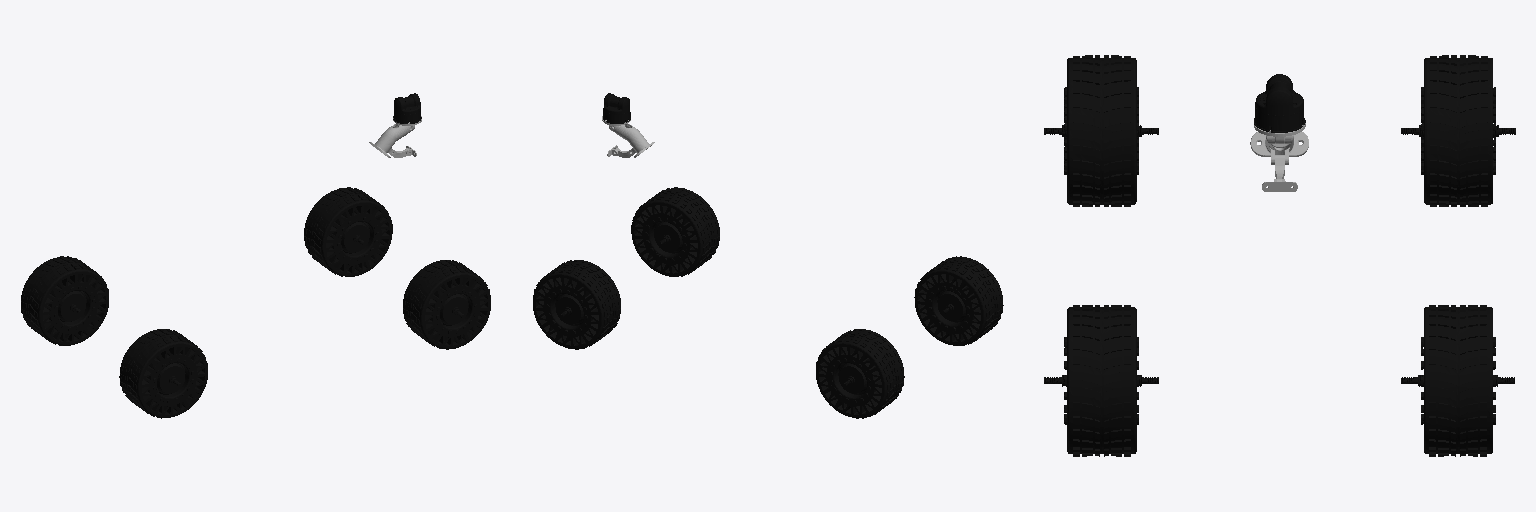
The robot description file, URDF, robot "Jaska V2":
<?xml version="1.0" encoding="utf-8"?>
<!-- This URDF was automatically created by SolidWorks to URDF Exporter! Originally created by Stephen Brawner (brawner@gmail.com) 
     Commit Version: 1.6.0-4-g7f85cfe  Build Version: 1.6.7995.38578
     For more information, please see http://wiki.ros.org/sw_urdf_exporter -->
<robot
  name="Jaska V2">
  <!-- base_footprint: ground-level reference frame (ROS2 convention).
       Placed at z=0 on the ground directly below base_link.
       Used by slam_toolbox/Nav2 so the map frame aligns with ground level.
       Offset = 0.322m = base_link spawn height above ground in the Metropolia scene. -->
  <link name="base_footprint"/>
  <joint name="base_footprint_joint" type="fixed">
    <parent link="base_footprint"/>
    <child link="base_link"/>
    <origin xyz="0 0 0.322" rpy="0 0 0"/>
  </joint>
  <link
    name="base_link">
    <inertial>
      <origin
        xyz="0.0167116582638194 0.000183919932521565 0.0480446417508829"
        rpy="0 0 0" />
      <mass
        value="45.448453178347" />
      <inertia
        ixx="0.433608840736545"
        ixy="2.55088180800693E-05"
        ixz="-0.012677215440949"
        iyy="0.915998537549348"
        iyz="-0.000366335315375223"
        izz="1.17796558685036" />
    </inertial>
    <visual>
      <origin
        xyz="0 0 0"
        rpy="0 0 0" />
      <geometry>
        <mesh
          filename="package://jaska_description/meshes/jaska_v2/base_link.STL" />
      </geometry>
      <material
        name="jaska_blue">
        <color
          rgba="0.2 0.4 0.8 1.0" />
      </material>
    </visual>
    <collision>
      <origin
        xyz="0 0 0"
        rpy="0 0 0" />
      <geometry>
        <mesh
          filename="package://jaska_description/meshes/jaska_v2/base_link.STL" />
      </geometry>
    </collision>
  </link>
  <link
    name="front_left_wheel">
    <inertial>
      <origin
        xyz="4.21428003605229E-10 -9.69843538811688E-10 -0.0447892364446169"
        rpy="0 0 0" />
      <mass
        value="4.35753639315825" />
      <inertia
        ixx="0.012892993411603"
        ixy="0.00108469725747092"
        ixz="3.65849727161882E-10"
        iyy="0.00639521219913667"
        iyz="1.5768036026998E-10"
        izz="0.0130591851043797" />
    </inertial>
    <visual>
      <origin
        xyz="0 0 0"
        rpy="0 0 0" />
      <geometry>
        <mesh
          filename="package://jaska_description/meshes/jaska_v2/front_left_wheel.STL" />
      </geometry>
      <material
        name="wheel_black">
        <color
          rgba="0.1 0.1 0.1 1.0" />
      </material>
    </visual>
    <collision>
      <origin
        xyz="0 0 0"
        rpy="0 0 0" />
      <geometry>
        <mesh
          filename="package://jaska_description/meshes/jaska_v2/front_left_wheel.STL" />
      </geometry>
    </collision>
  </link>
  <joint
    name="front_left_wheel_joint"
    type="continuous">
    <origin
      xyz="0.42321 0.30165 -0.20139"
      rpy="-1.5708 0 0" />
    <parent
      link="base_link" />
    <child
      link="front_left_wheel" />
    <axis
      xyz="0 0 -1" />
    <dynamics
      damping="0.1"
      friction="0.1" />
  </joint>
  <link
    name="front_right_wheel">
    <inertial>
      <origin
        xyz="4.21428891783648E-10 -9.69843483300536E-10 0.0448107635554156"
        rpy="0 0 0" />
      <mass
        value="4.35753639315827" />
      <inertia
        ixx="0.012892993411603"
        ixy="0.00108469725747092"
        ixz="3.65849727619343E-10"
        iyy="0.00639521219913669"
        iyz="1.5768038233689E-10"
        izz="0.0130591851043797" />
    </inertial>
    <visual>
      <origin
        xyz="0 0 0"
        rpy="0 0 0" />
      <geometry>
        <mesh
          filename="package://jaska_description/meshes/jaska_v2/front_right_wheel.STL" />
      </geometry>
      <material
        name="wheel_black">
        <color
          rgba="0.1 0.1 0.1 1.0" />
      </material>
    </visual>
    <collision>
      <origin
        xyz="0 0 0"
        rpy="0 0 0" />
      <geometry>
        <mesh
          filename="package://jaska_description/meshes/jaska_v2/front_right_wheel.STL" />
      </geometry>
    </collision>
  </link>
  <joint
    name="front_right_wheel_joint"
    type="continuous">
    <origin
      xyz="0.42321 -0.30141 -0.20139"
      rpy="-1.5708 0 0" />
    <parent
      link="base_link" />
    <child
      link="front_right_wheel" />
    <axis
      xyz="0 0 -1" />
    <dynamics
      damping="0.1"
      friction="0.1" />
  </joint>
  <link
    name="rear_left_wheel">
    <inertial>
      <origin
        xyz="3.18582230041109E-10 -1.00838526417846E-09 -0.044789236445087"
        rpy="0 0 0" />
      <mass
        value="4.35753639306677" />
      <inertia
        ixx="0.0130468949017929"
        ixy="0.000390978594948195"
        ixz="3.80232288378888E-10"
        iyy="0.00624131070987692"
        iyz="1.18880320553517E-10"
        izz="0.013059185103982" />
    </inertial>
    <visual>
      <origin
        xyz="0 0 0"
        rpy="0 0 0" />
      <geometry>
        <mesh
          filename="package://jaska_description/meshes/jaska_v2/rear_left_wheel.STL" />
      </geometry>
      <material
        name="wheel_black">
        <color
          rgba="0.1 0.1 0.1 1.0" />
      </material>
    </visual>
    <collision>
      <origin
        xyz="0 0 0"
        rpy="0 0 0" />
      <geometry>
        <mesh
          filename="package://jaska_description/meshes/jaska_v2/rear_left_wheel.STL" />
      </geometry>
    </collision>
  </link>
  <joint
    name="rear_left_wheel_joint"
    type="continuous">
    <origin
      xyz="-0.42685 0.30241 -0.20104"
      rpy="-1.5708 0 0" />
    <parent
      link="base_link" />
    <child
      link="rear_left_wheel" />
    <axis
      xyz="0 0 -1" />
    <dynamics
      damping="0.1"
      friction="0.1" />
  </joint>
  <link
    name="rear_right_wheel">
    <inertial>
      <origin
        xyz="-3.18589488124132E-10 1.00836058947174E-09 0.0448107635549138"
        rpy="0 0 0" />
      <mass
        value="4.35753639306677" />
      <inertia
        ixx="0.013046894901793"
        ixy="0.00039097859494819"
        ixz="-3.80232286280492E-10"
        iyy="0.00624131070987693"
        iyz="-1.18880322790878E-10"
        izz="0.013059185103982" />
    </inertial>
    <visual>
      <origin
        xyz="0 0 0"
        rpy="0 0 0" />
      <geometry>
        <mesh
          filename="package://jaska_description/meshes/jaska_v2/rear_right_wheel.STL" />
      </geometry>
      <material
        name="wheel_black">
        <color
          rgba="0.1 0.1 0.1 1.0" />
      </material>
    </visual>
    <collision>
      <origin
        xyz="0 0 0"
        rpy="0 0 0" />
      <geometry>
        <mesh
          filename="package://jaska_description/meshes/jaska_v2/rear_right_wheel.STL" />
      </geometry>
    </collision>
  </link>
  <joint
    name="rear_right_wheel_joint"
    type="continuous">
    <origin
      xyz="-0.42685 -0.30141 -0.20104"
      rpy="-1.5708 0 0" />
    <parent
      link="base_link" />
    <child
      link="rear_right_wheel" />
    <axis
      xyz="0 0 -1" />
    <dynamics
      damping="0.1"
      friction="0.1" />
  </joint>

  <!-- Sensor: lidar_and_camera_mount_link -->
  <link name="lidar_and_camera_mount_link">
    <visual>
      <origin xyz="0 0 0" rpy="0 0 0"/>
      <geometry>
        <mesh filename="package://jaska_description/meshes/jaska_v2/sensors/lidar_and_camera_mount.stl" scale="0.001 0.001 0.001"/>
      </geometry>
      <material name="mount_aluminum">
        <color rgba="0.7 0.7 0.7 1.0"/>
      </material>
    </visual>
    <collision>
      <origin xyz="0 0 0" rpy="0 0 0"/>
      <geometry>
        <mesh filename="package://jaska_description/meshes/jaska_v2/sensors/lidar_and_camera_mount.stl" scale="0.001 0.001 0.001"/>
      </geometry>
    </collision>
    <inertial>
      <mass value="0.5000"/>
      <origin xyz="0 0 0" rpy="0 0 0"/>
      <inertia ixx="8.333333e-06" ixy="0" ixz="0"
               iyy="8.333333e-06" iyz="0"
               izz="8.333333e-06"/>
    </inertial>
  </link>

  <joint name="lidar_and_camera_mount_joint" type="fixed">
    <parent link="base_link"/>
    <child link="lidar_and_camera_mount_link"/>
    <origin xyz="0.350000 -0.043000 0.160000" rpy="0.000000 0.785400 0.000000"/>
  </joint>

  <!-- Sensor: unitree_lidar_link -->
  <link name="unitree_lidar_link">
    <visual>
      <origin xyz="0 0 0" rpy="0 0 0"/>
      <geometry>
        <mesh filename="package://jaska_description/meshes/jaska_v2/sensors/unitree_l2.stl" scale="0.001 0.001 0.001"/>
      </geometry>
      <material name="lidar_sensor">
        <color rgba="0.1 0.1 0.1 1.0"/>
      </material>
    </visual>
    <collision>
      <origin xyz="0 0 0" rpy="0 0 0"/>
      <geometry>
        <mesh filename="package://jaska_description/meshes/jaska_v2/sensors/unitree_l2.stl" scale="0.001 0.001 0.001"/>
      </geometry>
    </collision>
    <inertial>
      <mass value="0.1800"/>
      <origin xyz="0 0 0" rpy="0 0 0"/>
      <inertia ixx="3.000000e-06" ixy="0" ixz="0"
               iyy="3.000000e-06" iyz="0"
               izz="3.000000e-06"/>
    </inertial>
  </link>

  <joint name="unitree_lidar_joint" type="fixed">
    <parent link="lidar_and_camera_mount_link"/>
    <child link="unitree_lidar_link"/>
    <origin rpy="0 -0.7853975 0" xyz="0.001 0.005 0.09"/>
  </joint>

  <!-- Unitree L2 Lidar Optical Frame (matches real hardware frame name) -->
  <link name="unilidar_lidar"/>
  <joint name="unitree_lidar_optical_joint" type="fixed">
    <parent link="unitree_lidar_link"/>
    <child link="unilidar_lidar"/>
    <origin rpy="0 0 0" xyz="0 0 0.030"/>
  </joint>

  <!-- Gazebo 3D Lidar Sensor Plugin for Unitree L2 -->
  <gazebo reference="unitree_lidar_link">
    <material>Gazebo/Black</material>
    <sensor name="unitree_l2_lidar" type="gpu_lidar">
      <pose>0 0 0.030 0 0 0</pose>
      <always_on>true</always_on>
      <visualize>true</visualize>
      <update_rate>10</update_rate>
      <topic>unilidar/cloud</topic>
      <gz_frame_id>unilidar_lidar</gz_frame_id>
      <lidar>
        <scan>
          <horizontal>
            <samples>1800</samples>
            <min_angle>-3.14159</min_angle>
            <max_angle>3.14159</max_angle>
            <resolution>1.0</resolution>
          </horizontal>
          <vertical>
            <samples>32</samples>
            <min_angle>-0.1047</min_angle>
            <!-- -6 degrees (downward) -->
            <max_angle>1.5708</max_angle>
            <!-- +90 degrees (upward dome) -->
            <resolution>1.0</resolution>
          </vertical>
        </scan>
        <range>
          <min>0.1</min>
          <max>30.0</max>
          <!-- Unitree L2 max range -->
          <resolution>0.01</resolution>
        </range>
        <noise>
          <type>gaussian</type>
          <mean>0.0</mean>
          <stddev>0.01</stddev>
        </noise>
      </lidar>
    </sensor>
  </gazebo>

  <!-- ZED-X stereo camera — mesh + inertial moved here from removed zed_camera_center -->
  <link name="zed_camera_link">
    <visual>
      <origin xyz="0 0 0" rpy="0 0 0"/>
      <geometry>
        <mesh filename="package://jaska_description/meshes/jaska_v2/sensors/zedx.stl" scale="1.0 1.0 1.0"/>
      </geometry>
      <material name="zedx_mat">
        <color rgba="0.1 0.1 0.1 1.0"/>
      </material>
    </visual>
    <collision>
      <origin xyz="0 0 0" rpy="0 0 0"/>
      <geometry>
        <mesh filename="package://jaska_description/meshes/jaska_v2/sensors/zedx.stl" scale="1.0 1.0 1.0"/>
      </geometry>
    </collision>
    <inertial>
      <mass value="0.1500"/>
      <origin xyz="0 0 0" rpy="0 0 0"/>
      <inertia ixx="2.500000e-06" ixy="0" ixz="0"
               iyy="2.500000e-06" iyz="0"
               izz="2.500000e-06"/>
    </inertial>
  </link>

  <joint name="zed_camera_joint" type="fixed">
    <parent link="lidar_and_camera_mount_link"/>
    <child link="zed_camera_link"/>
    <origin xyz="0.130000 0.042000 0.060000" rpy="0.000000 -0.785400 0.000000"/>
  </joint>

  <!-- Left Camera -->
  <link name="zed_left_camera_frame"/>
  <joint name="zed_left_camera_joint" type="fixed">
    <parent link="zed_camera_link"/>
    <child link="zed_left_camera_frame"/>
    <origin rpy="0 0 0" xyz="-0.01 0.06 0"/>
  </joint>

  <link name="zed_left_camera_optical_frame"/>
  <joint name="zed_left_camera_optical_joint" type="fixed">
    <origin rpy="-1.570795 0.0 -1.570795" xyz="0 0 0"/>
    <parent link="zed_left_camera_frame"/>
    <child link="zed_left_camera_optical_frame"/>
  </joint>

  <!-- Right Camera -->
  <link name="zed_right_camera_frame"/>
  <joint name="zed_right_camera_joint" type="fixed">
    <parent link="zed_camera_link"/>
    <child link="zed_right_camera_frame"/>
    <origin rpy="0 0 0" xyz="-0.01 -0.06 0"/>
  </joint>

  <link name="zed_right_camera_optical_frame"/>
  <joint name="zed_right_camera_optical_joint" type="fixed">
    <origin rpy="-1.570795 0.0 -1.570795" xyz="0 0 0"/>
    <parent link="zed_right_camera_frame"/>
    <child link="zed_right_camera_optical_frame"/>
  </joint>

</robot>

--- Facts derived from the render (not from the file) ---
Views: 3 orthographic renders of the robot side by side, from view 1: azimuth 30°, elevation 25°; view 2: azimuth 150°, elevation 25°; view 3: azimuth 270°, elevation 25°.
Model Jaska V2 with 14 links and 13 joints (4 continuous, 9 fixed), rooted at base_footprint, posed all joints at 0.
Links seen in each view (by area): view 1: front_left_wheel, rear_left_wheel, front_right_wheel, rear_right_wheel, lidar_and_camera_mount_link, unitree_lidar_link; view 2: front_left_wheel, front_right_wheel, rear_left_wheel, rear_right_wheel, lidar_and_camera_mount_link, unitree_lidar_link; view 3: rear_right_wheel, rear_left_wheel, front_right_wheel, front_left_wheel, unitree_lidar_link, lidar_and_camera_mount_link.
Boxes of the visible links, x1,y1,x2,y2 form: front_left_wheel: [304, 187, 392, 276]; rear_left_wheel: [21, 256, 108, 345]; front_right_wheel: [403, 260, 490, 349]; rear_right_wheel: [119, 329, 207, 418]; lidar_and_camera_mount_link: [369, 116, 421, 157]; unitree_lidar_link: [393, 93, 421, 123]; front_left_wheel: [533, 260, 620, 349]; front_right_wheel: [631, 187, 719, 276]; rear_left_wheel: [816, 329, 904, 418]; rear_right_wheel: [914, 256, 1003, 345]; lidar_and_camera_mount_link: [602, 116, 654, 157]; unitree_lidar_link: [603, 93, 630, 123]; rear_right_wheel: [1044, 55, 1158, 206]; rear_left_wheel: [1401, 55, 1515, 206]; front_right_wheel: [1044, 305, 1158, 456]; front_left_wheel: [1401, 305, 1514, 456]; unitree_lidar_link: [1254, 74, 1305, 132]; lidar_and_camera_mount_link: [1250, 123, 1308, 191].
Bounding box of the posed robot: 1.07 × 0.6788 × 0.5973 m (x, y, z).
6 mesh visuals loaded from 8 distinct referenced files (6 binary STL); not drawn: 2 (reference not matched to a file when rendering).
